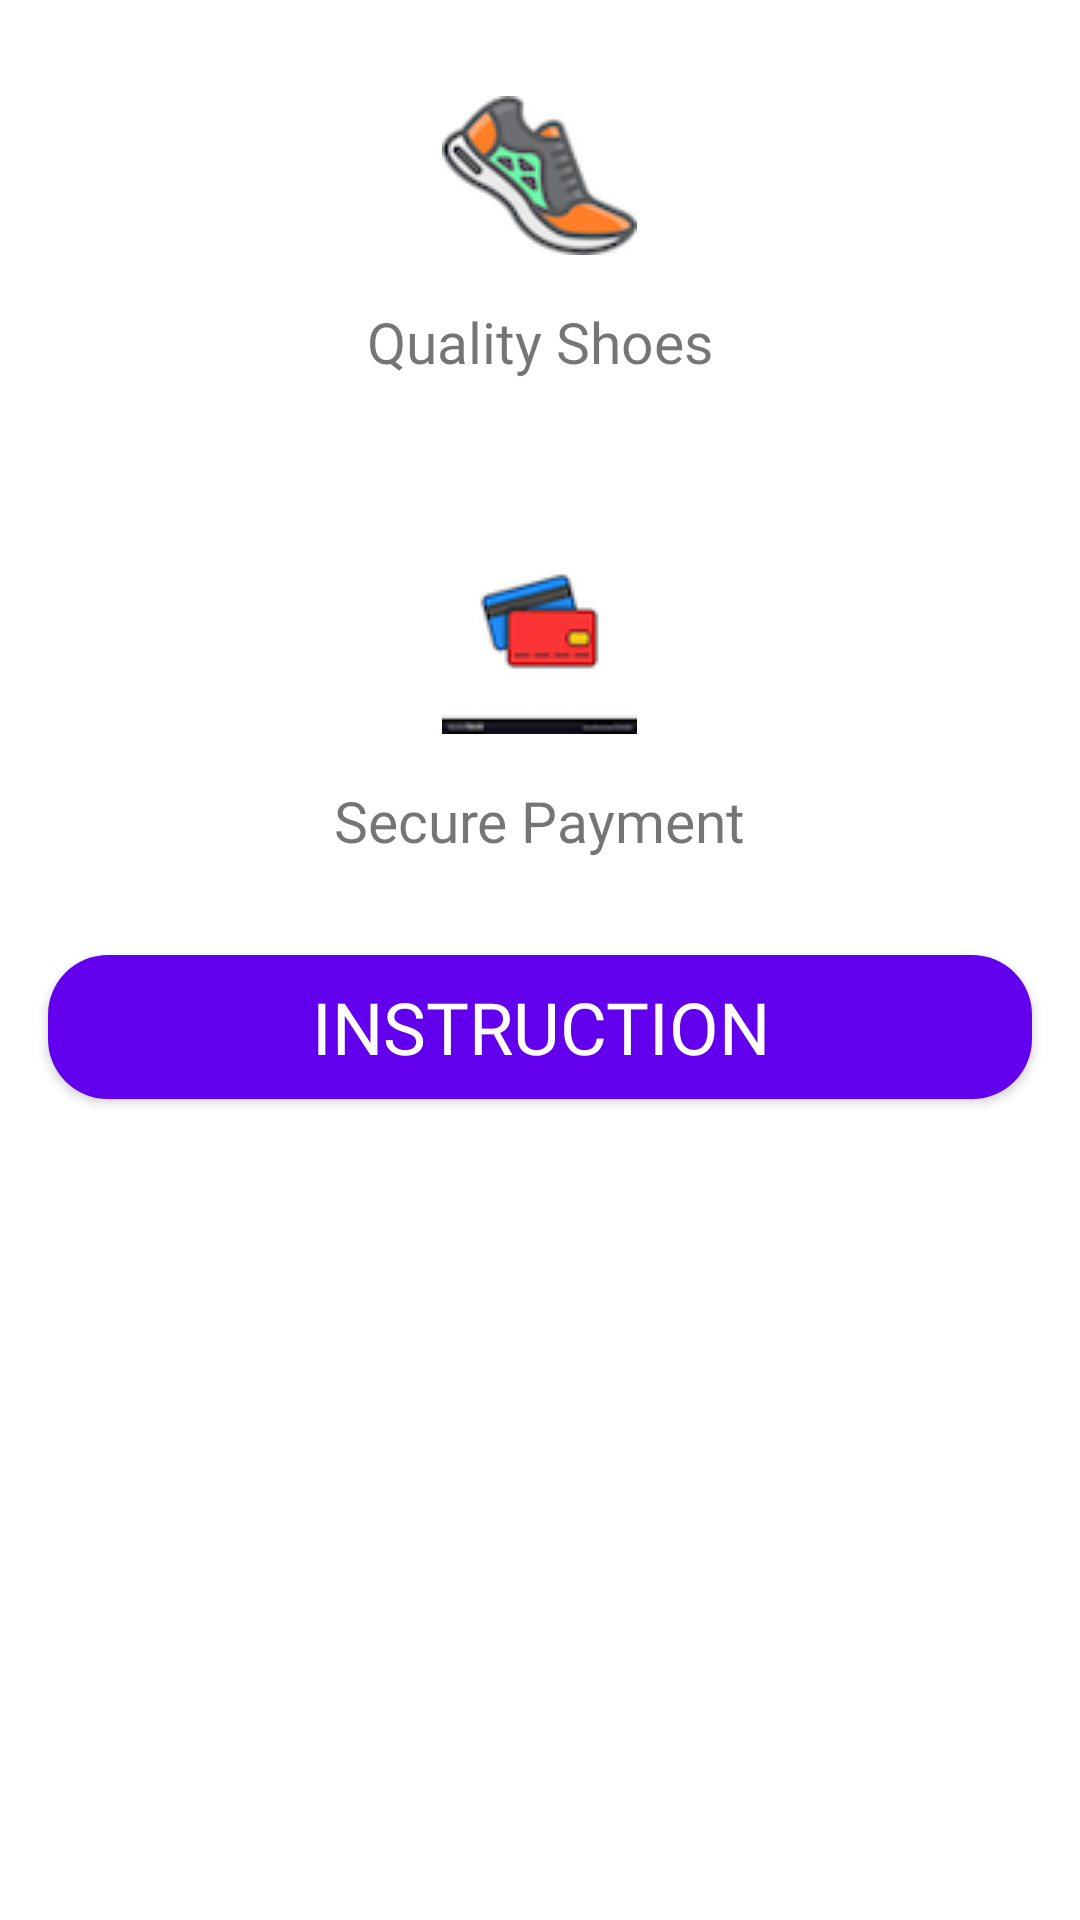

Icons on this 1080px x 1920px Android screen, each with its box as (x1, y1, x2, y2):
Shoe Image: (442, 96, 637, 255)
